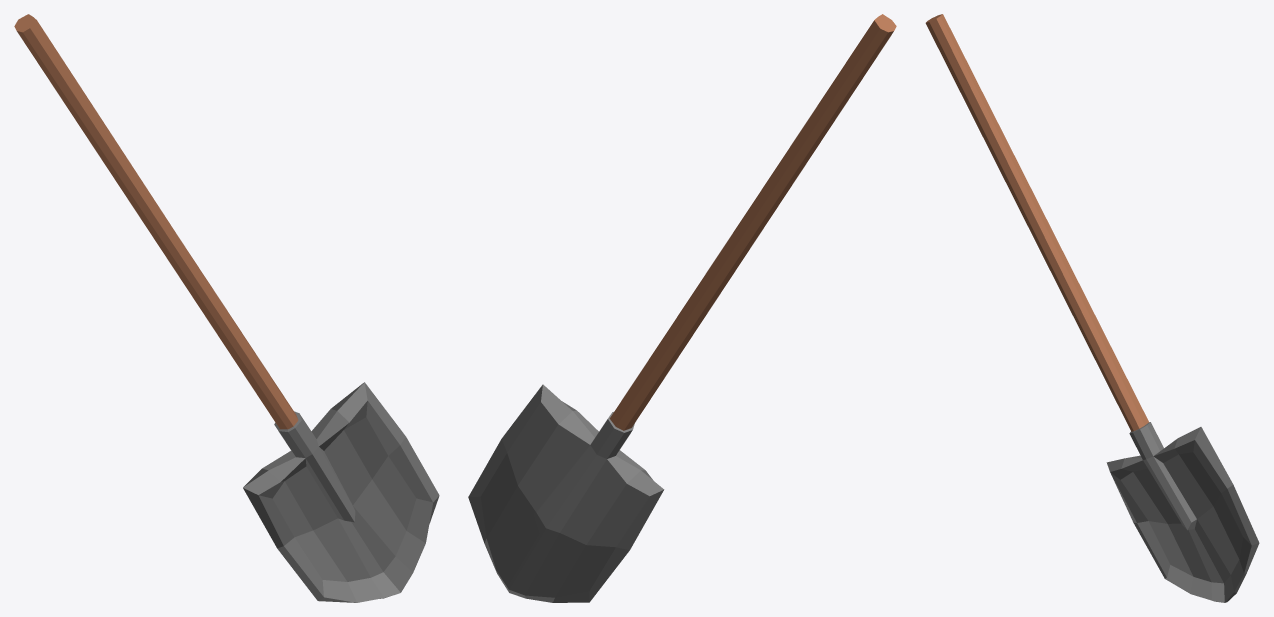
The model's file is Shovel.fbx.
The picture shows the model from 3 angles, left to right: view 1: azimuth 30°, elevation 25°; view 2: azimuth 150°, elevation 25°; view 3: azimuth 330°, elevation 25°; orthographic projection. The views are drawn at different scales.
Parts seen in each view (by area): view 1: Shovel; view 2: Shovel; view 3: Shovel.
Boxes of the visible parts, x1,y1,x2,y2 form: Shovel: (14,14,439,602); Shovel: (468,14,896,602); Shovel: (925,14,1259,602).
Size of the model in its own units: 954 by 1434 by 83.2.
Materials: 1 (1 with a texture image).
